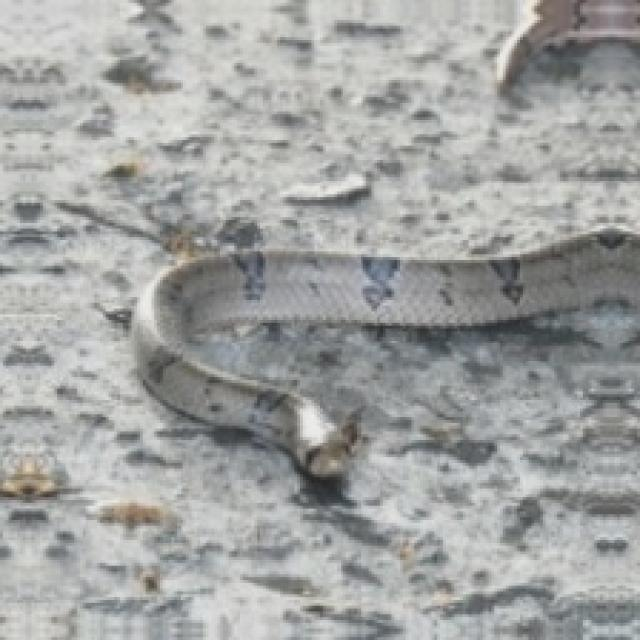northern short-headed snake: (131, 226, 637, 477), (131, 229, 637, 477)
